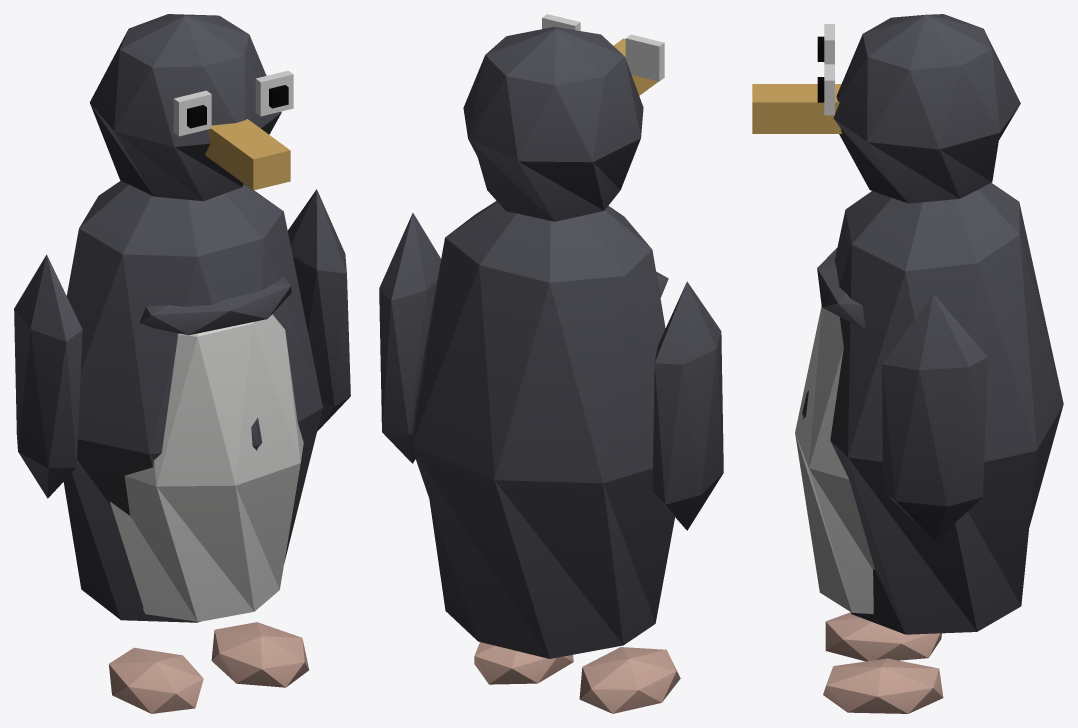
Rendered from pinguim.glb.
The picture shows the model from 3 angles, left to right: view 1: azimuth 30°, elevation 25°; view 2: azimuth 150°, elevation 25°; view 3: azimuth 270°, elevation 25°; orthographic projection. The views are drawn at different scales.
Parts seen in each view (by area): view 1: Corpo_2, Malha_0, Malha_1; view 2: Corpo_2, Malha_1; view 3: Corpo_2, Malha_0, Malha_1.
Part boxes in pixels (box(x1,y1,x2,y2)): Corpo_2: box(14, 14, 350, 713); Malha_0: box(255, 70, 293, 116); Malha_1: box(173, 90, 211, 136); Corpo_2: box(379, 27, 723, 713); Malha_1: box(625, 34, 664, 81); Corpo_2: box(752, 14, 1063, 713); Malha_0: box(817, 64, 834, 115); Malha_1: box(817, 24, 834, 64).
Size of the model in its own units: 0.4212 by 0.84 by 0.358.
